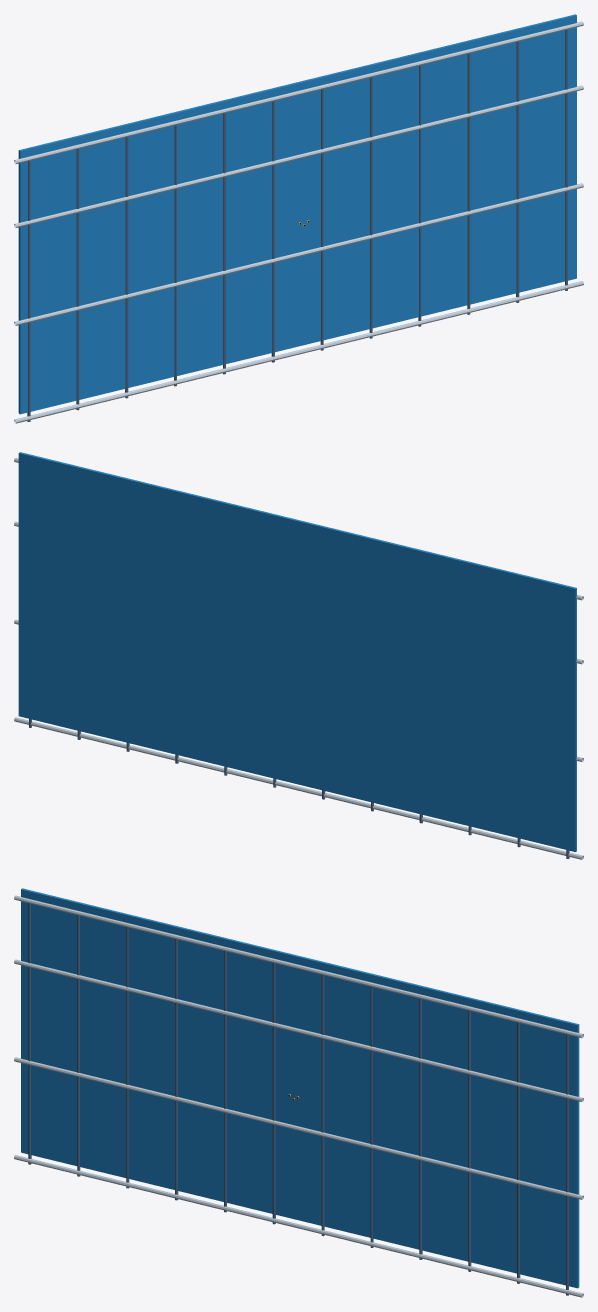
Rendered from 01_L91_PanoramicDeepSpaceObservationDome.fbx.
3 renders of one model, top to bottom at view 1: azimuth 30°, elevation 25°; view 2: azimuth 150°, elevation 25°; view 3: azimuth 330°, elevation 25°, orthographic.
Parts seen in each view (by area): view 1: L91_PanoramicDeepSpaceObservationDome; view 2: L91_PanoramicDeepSpaceObservationDome; view 3: L91_PanoramicDeepSpaceObservationDome.
Boxes of the visible parts, bbox=[...] form: L91_PanoramicDeepSpaceObservationDome: bbox=[14, 14, 583, 423]; L91_PanoramicDeepSpaceObservationDome: bbox=[14, 452, 583, 859]; L91_PanoramicDeepSpaceObservationDome: bbox=[14, 888, 583, 1297].
Bounding box in the file's own units: 3160 × 1450 × 71.2.
